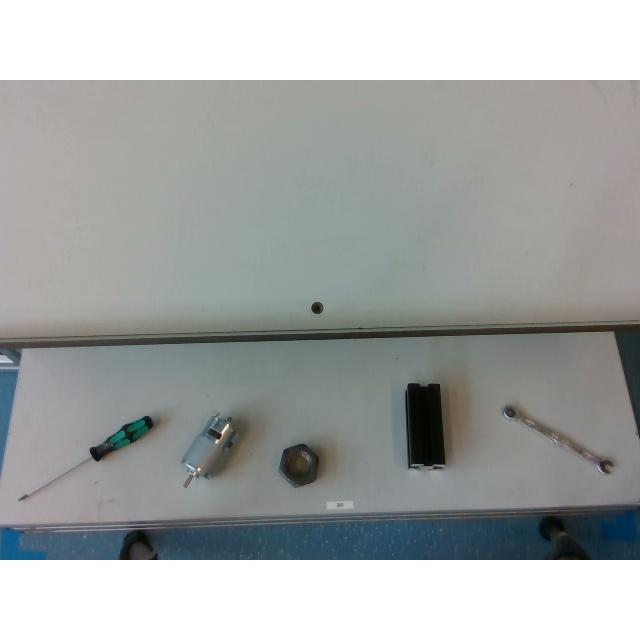M30: (278, 443, 318, 487)
Motor2: (181, 413, 235, 487)
S40_40_B: (404, 384, 444, 468)
Screwdriver: (16, 414, 154, 502)
Wrench: (502, 406, 614, 474)
